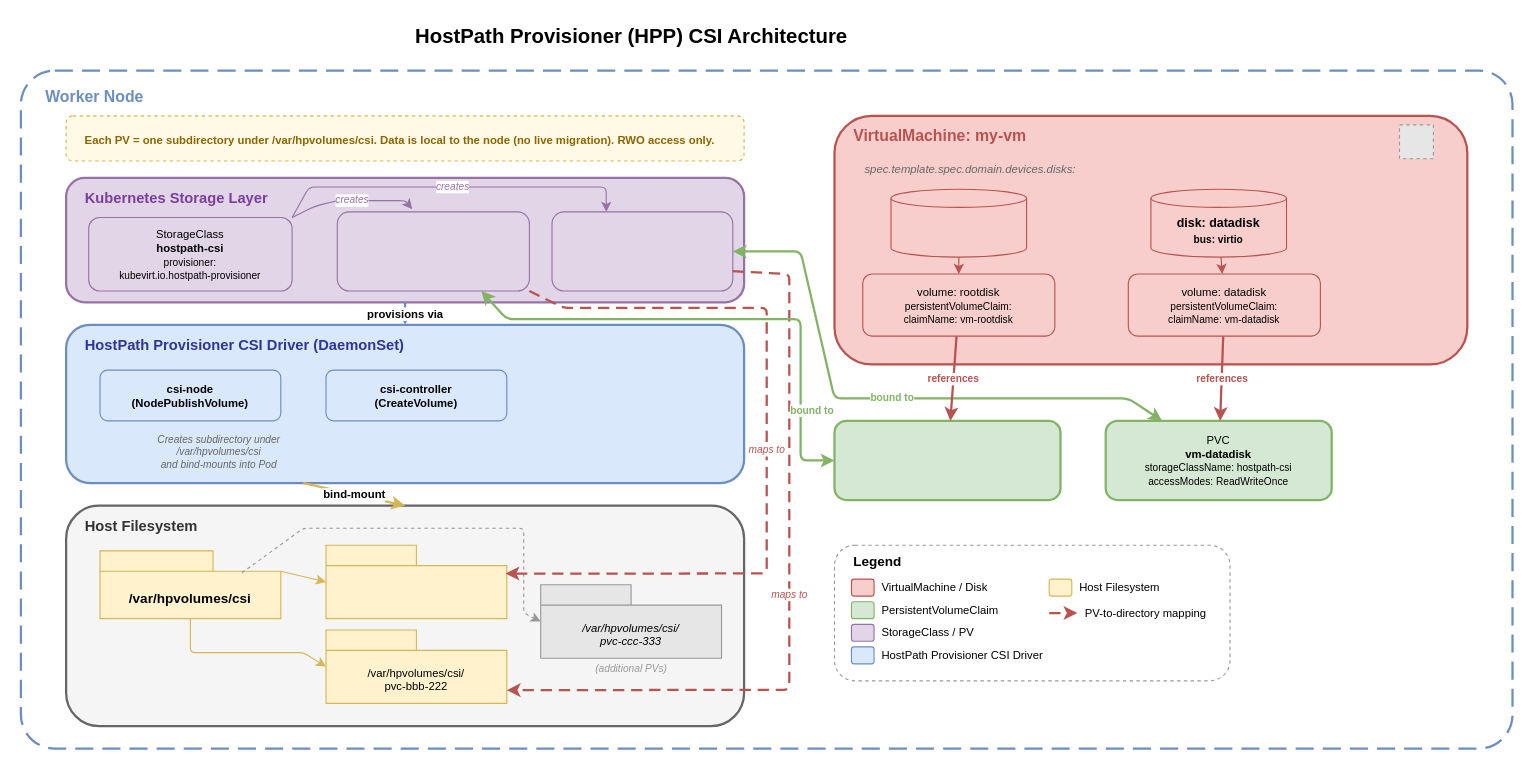
The diagram is 1532 pixels wide and 768 high, and some of its shapes have lost their labels. Grey dashed boxes stand in for pictures. Here are the shapes that lost their labels. From the top down, the centre of each, then its label:
At point (958, 222): "disk: rootdisk bus: virtio".
At point (432, 251): "PV pvc-aaa-111 hostPath: /var/hpvolumes/pvc-aaa-111".
At point (642, 251): "PV pvc-bbb-222 hostPath: /var/hpvolumes/pvc-bbb-222".
At point (947, 460): "PVC vm-rootdisk storageClassName: hostpath-csi accessModes: ReadWriteOnce".
At point (416, 581): "/var/hpvolumes/csi/ pvc-aaa-111".
